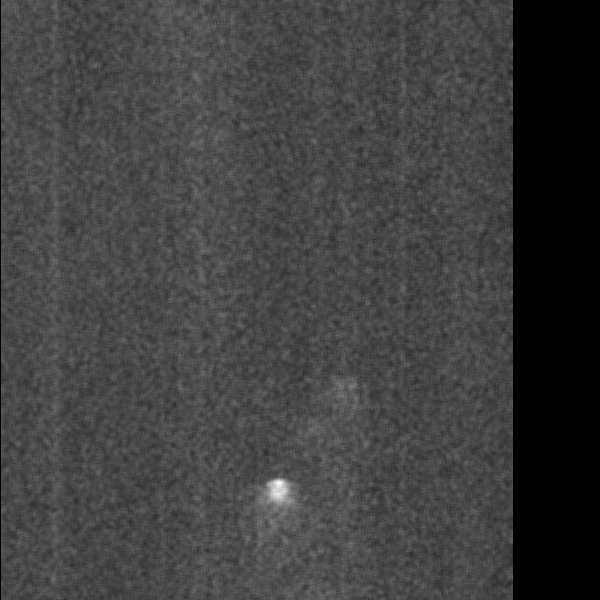spark: (386, 132, 453, 187), (133, 376, 173, 460)
